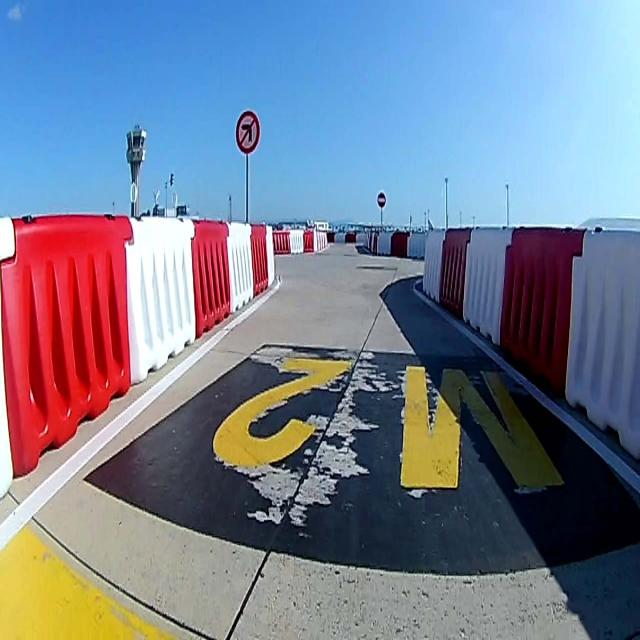soladonulmez: (236, 111, 260, 153)
